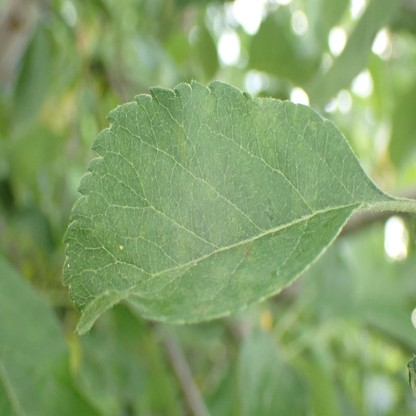scab: (248, 96, 278, 161), (178, 228, 195, 252), (178, 131, 191, 161), (199, 96, 212, 117), (241, 244, 254, 260), (195, 303, 211, 314)
